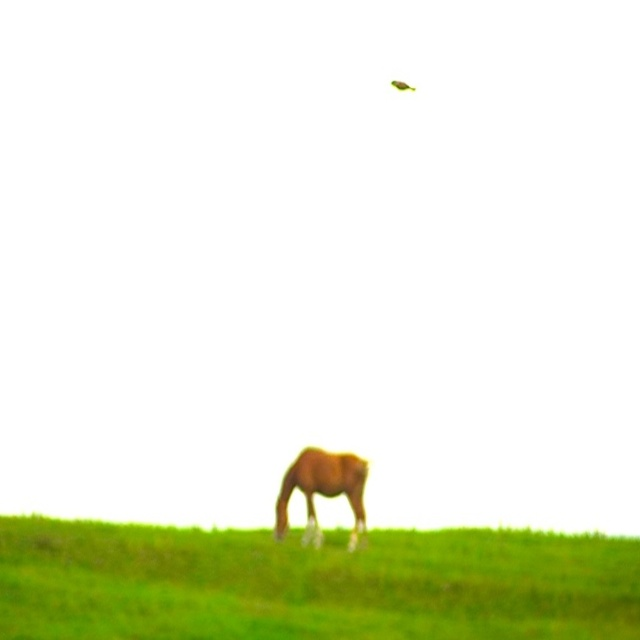Horse: (271, 443, 368, 553)
